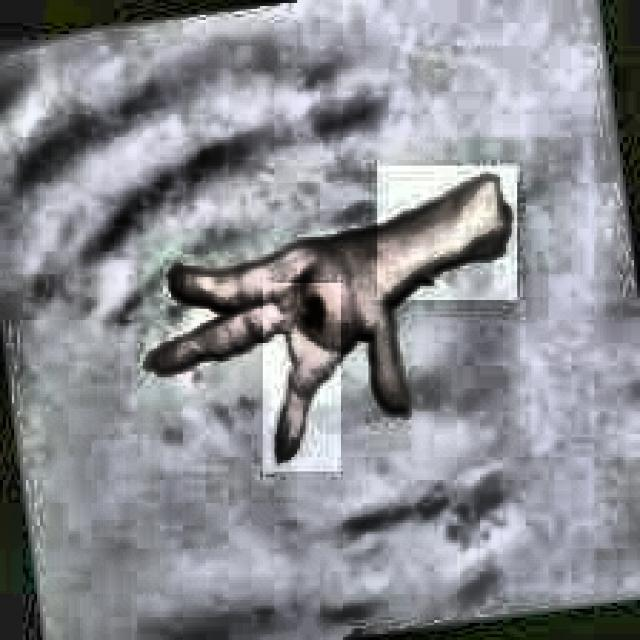Bumble foot: (284, 286, 351, 341)
